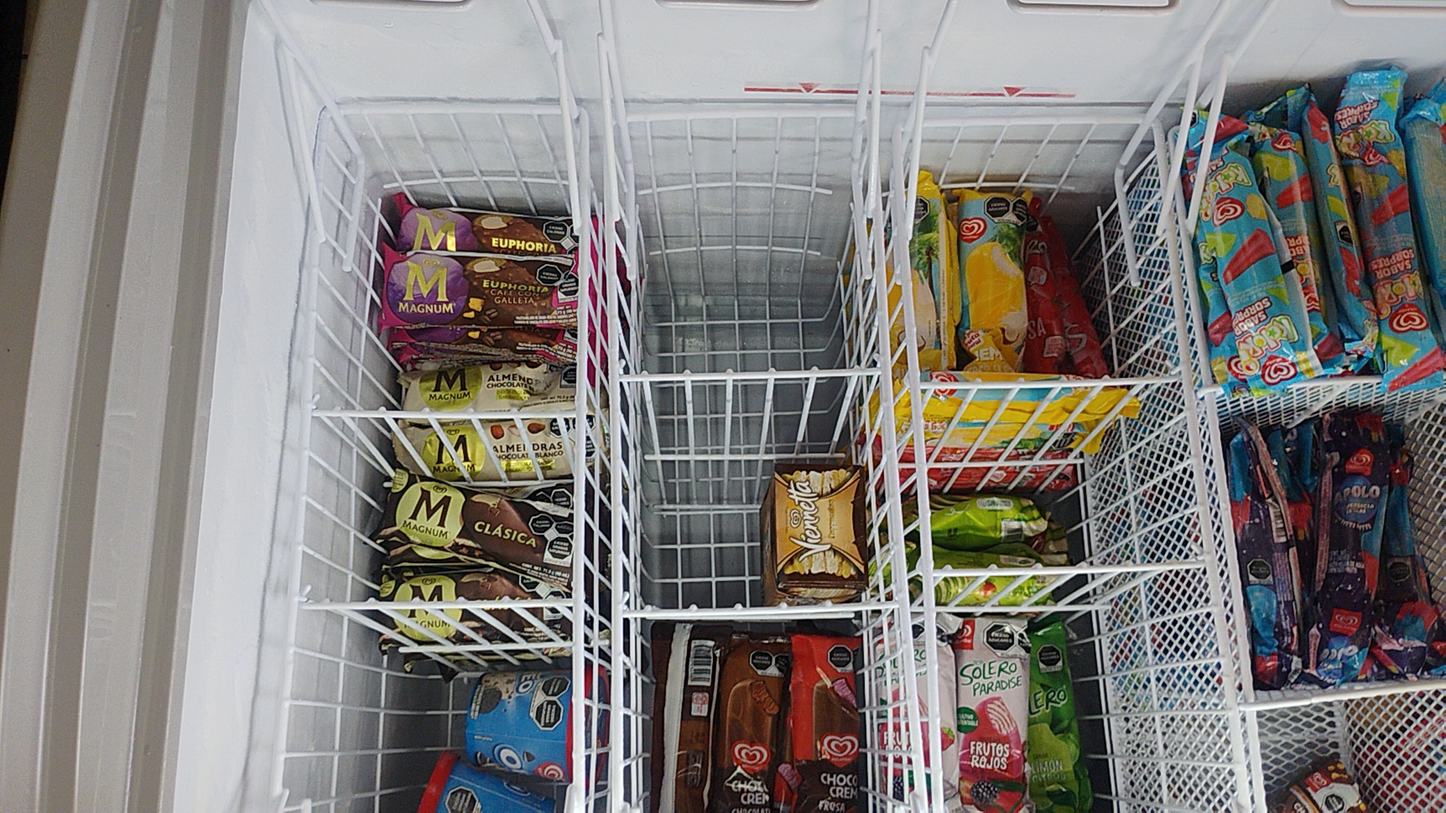rejilla: (1166, 217, 1248, 812), (898, 135, 945, 812), (876, 202, 926, 810), (1209, 396, 1254, 701), (293, 242, 317, 592), (610, 225, 623, 812), (1175, 182, 1209, 383), (575, 234, 586, 813), (272, 593, 298, 799), (621, 602, 903, 616), (1251, 688, 1411, 709), (932, 562, 1209, 574), (618, 369, 886, 379), (919, 378, 1176, 386), (300, 601, 574, 607), (629, 111, 853, 118), (925, 118, 1139, 125), (1250, 712, 1264, 812), (308, 411, 578, 416), (341, 107, 560, 113), (1156, 126, 1168, 184), (317, 117, 327, 186), (582, 122, 587, 224), (1297, 379, 1379, 385)
